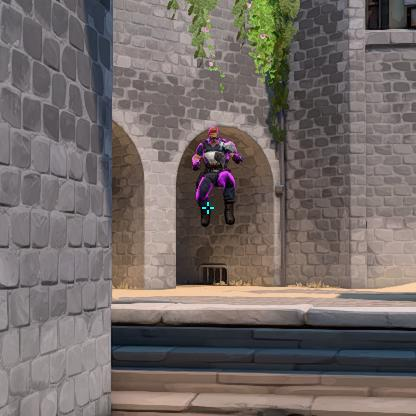enemyBody: (205, 143, 223, 170)
enemyHead: (210, 130, 217, 141)
